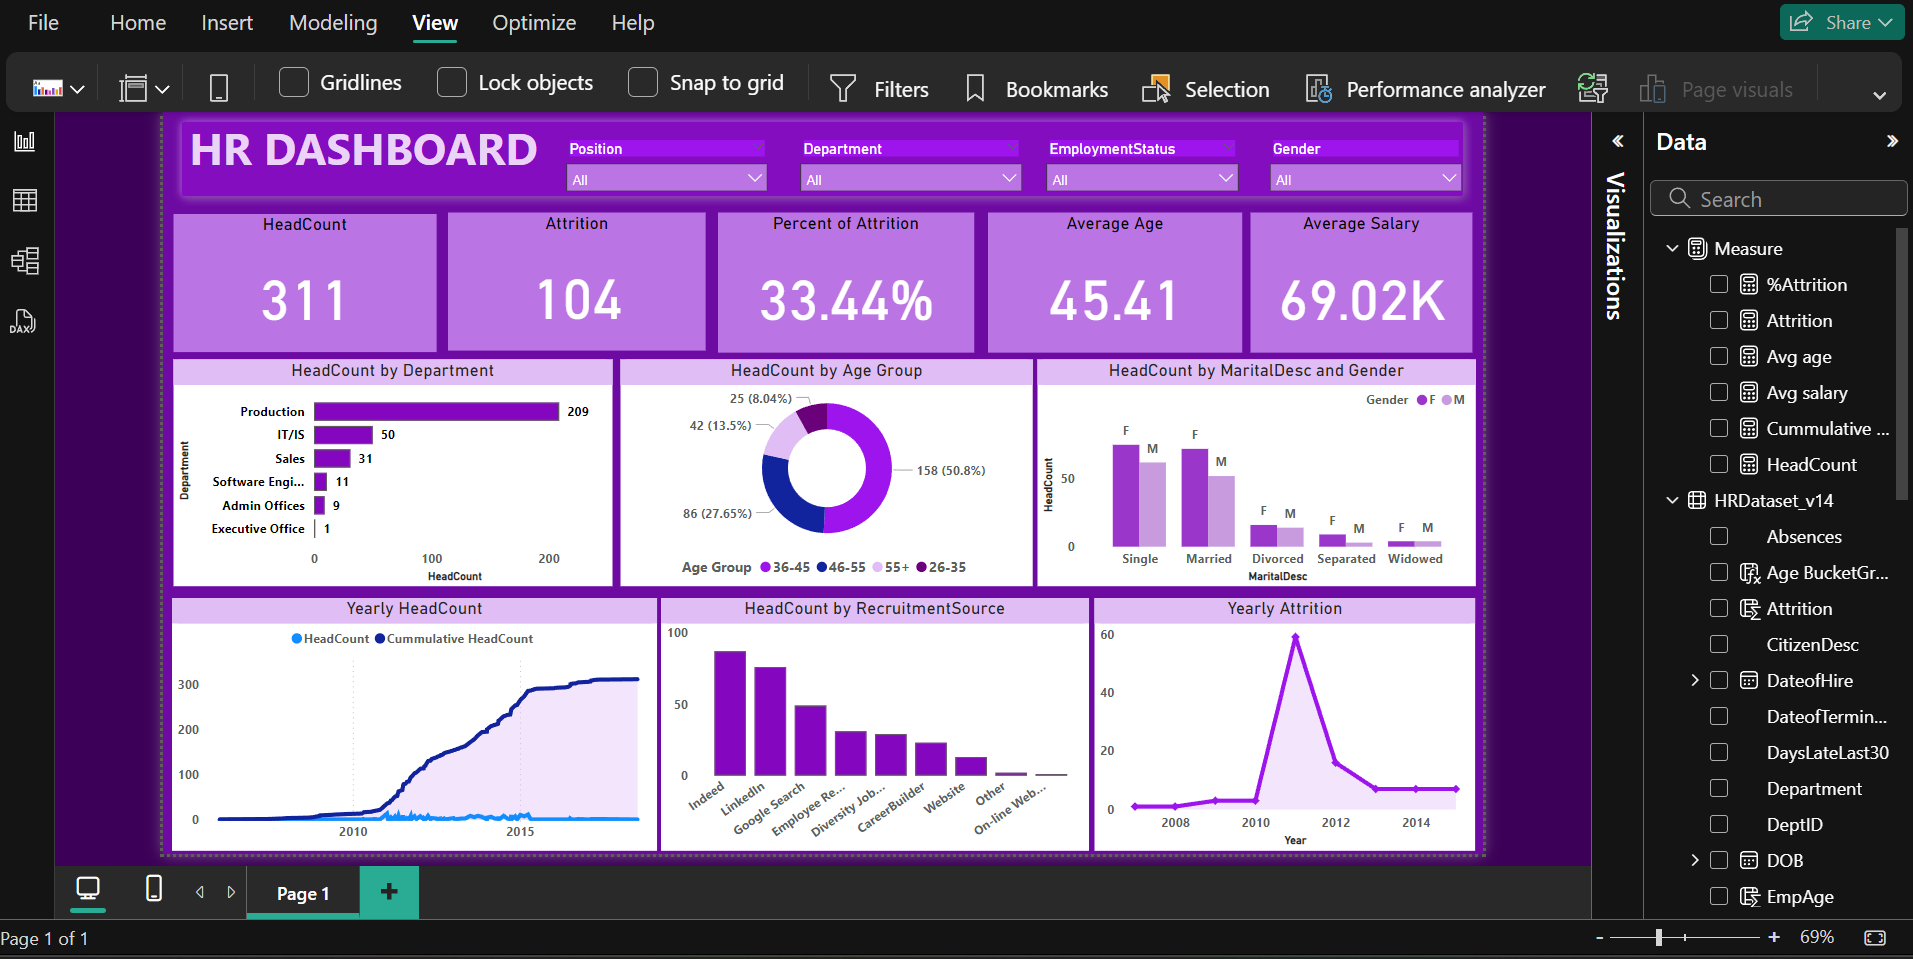

This screenshot's page, from the dashboard's own definition file:
{"tool":"powerbi","page":{"name":"Page 1","canvas":[1280,720],"ordinal":0},"visuals":[{"type":"shape","box":[8.3,0,1262.2,91.1],"z":0},{"type":"card","title":"HeadCount","fields":{"Values":["Measure.HeadCount"]},"box":[9.9,99.4,255.1,134.2],"z":1000},{"type":"card","title":"Percent of Attrition  ","fields":{"Values":["Measure.%Attrition"]},"box":[538.4,97.7,248.5,135.8],"z":2000},{"type":"card","title":"Average Salary","fields":{"Values":["Measure.Avg salary"]},"box":[1055.2,97.7,215.3,135.8],"z":3000},{"type":"card","title":"Average Age","fields":{"Values":["Measure.Avg age"]},"box":[800.1,97.7,246.8,135.8],"z":4000},{"type":"barChart","fields":{"Category":["HRDataset_v14.Department"],"Y":["Measure.HeadCount"]},"box":[9.9,240.2,425.7,220.3],"z":5000},{"type":"donutChart","title":"HeadCount by Age Group","fields":{"Category":["HRDataset_v14.Age BucketGroup"],"Y":["Measure.HeadCount"]},"box":[443.9,240.2,400,220.3],"z":6000},{"type":"clusteredColumnChart","fields":{"Category":["HRDataset_v14.MaritalDesc"],"Series":["HRDataset_v14.Gender"],"Y":["Measure.HeadCount"]},"box":[848.1,240.2,425,220.3],"z":7000},{"type":"lineChart","title":"Yearly HeadCount ","fields":{"Category":["HRDataset_v14.DateofHire"],"Y":["Measure.HeadCount","Measure.Cummulative HeadCount"]},"box":[8.3,472.1,470.4,245],"z":8000},{"type":"columnChart","fields":{"Y":["Measure.HeadCount"],"Category":["HRDataset_v14.RecruitmentSource"]},"box":[483.7,472.1,415,245],"z":9000},{"type":"slicer","fields":{"Values":["HRDataset_v14.Department"]},"box":[607.9,21.5,235.2,69.6],"z":10000},{"type":"slicer","fields":{"Values":["HRDataset_v14.EmploymentStatus"]},"box":[847.4,21.1,206.6,70],"z":11000},{"type":"slicer","fields":{"Values":["HRDataset_v14.Gender"]},"box":[1063.8,21.1,206.6,70],"z":12000},{"type":"slicer","fields":{"Values":["HRDataset_v14.Position"]},"box":[381,21.5,215.3,69.6],"z":13000},{"type":"lineChart","title":"Yearly Attrition","fields":{"Category":["HRDataset_v14.DateofHire.Variation.Date Hierarchy.Year","HRDataset_v14.DateofHire.Variation.Date Hierarchy.Quarter","HRDataset_v14.DateofHire.Variation.Date Hierarchy.Month","HRDataset_v14.DateofHire.Variation.Date Hierarchy.Day"],"Y":["Measure.Attrition"]},"box":[904.4,472.1,369.4,245.2],"z":14000},{"type":"card","title":"Attrition","fields":{"Values":["Measure.Attrition"]},"box":[276.6,97.7,250.1,134.2],"z":15000},{"type":"textbox","box":[20.4,0,361,80.1],"z":15001}]}

Visuals, with their boxes on the page's 1280x720 design canvas (x1, y1, x2, y2). These are canvas units, not pixel positions in the 1913x959 screenshot, which may show the page scaled, cropped or inside an application window:
shape: left=8, top=0, right=1270, bottom=91
"HeadCount" card: left=10, top=99, right=265, bottom=234
"Percent of Attrition  " card: left=538, top=98, right=787, bottom=234
"Average Salary" card: left=1055, top=98, right=1270, bottom=234
"Average Age" card: left=800, top=98, right=1047, bottom=234
barChart - HRDataset_v14.Department x Measure.HeadCount: left=10, top=240, right=436, bottom=460
"HeadCount by Age Group" donutChart: left=444, top=240, right=844, bottom=460
clusteredColumnChart - HRDataset_v14.MaritalDesc x HRDataset_v14.Gender: left=848, top=240, right=1273, bottom=460
"Yearly HeadCount " lineChart: left=8, top=472, right=479, bottom=717
columnChart - Measure.HeadCount x HRDataset_v14.RecruitmentSource: left=484, top=472, right=899, bottom=717
slicer - HRDataset_v14.Department: left=608, top=22, right=843, bottom=91
slicer - HRDataset_v14.EmploymentStatus: left=847, top=21, right=1054, bottom=91
slicer - HRDataset_v14.Gender: left=1064, top=21, right=1270, bottom=91
slicer - HRDataset_v14.Position: left=381, top=22, right=596, bottom=91
"Yearly Attrition" lineChart: left=904, top=472, right=1274, bottom=717
"Attrition" card: left=277, top=98, right=527, bottom=232
textbox: left=20, top=0, right=381, bottom=80
